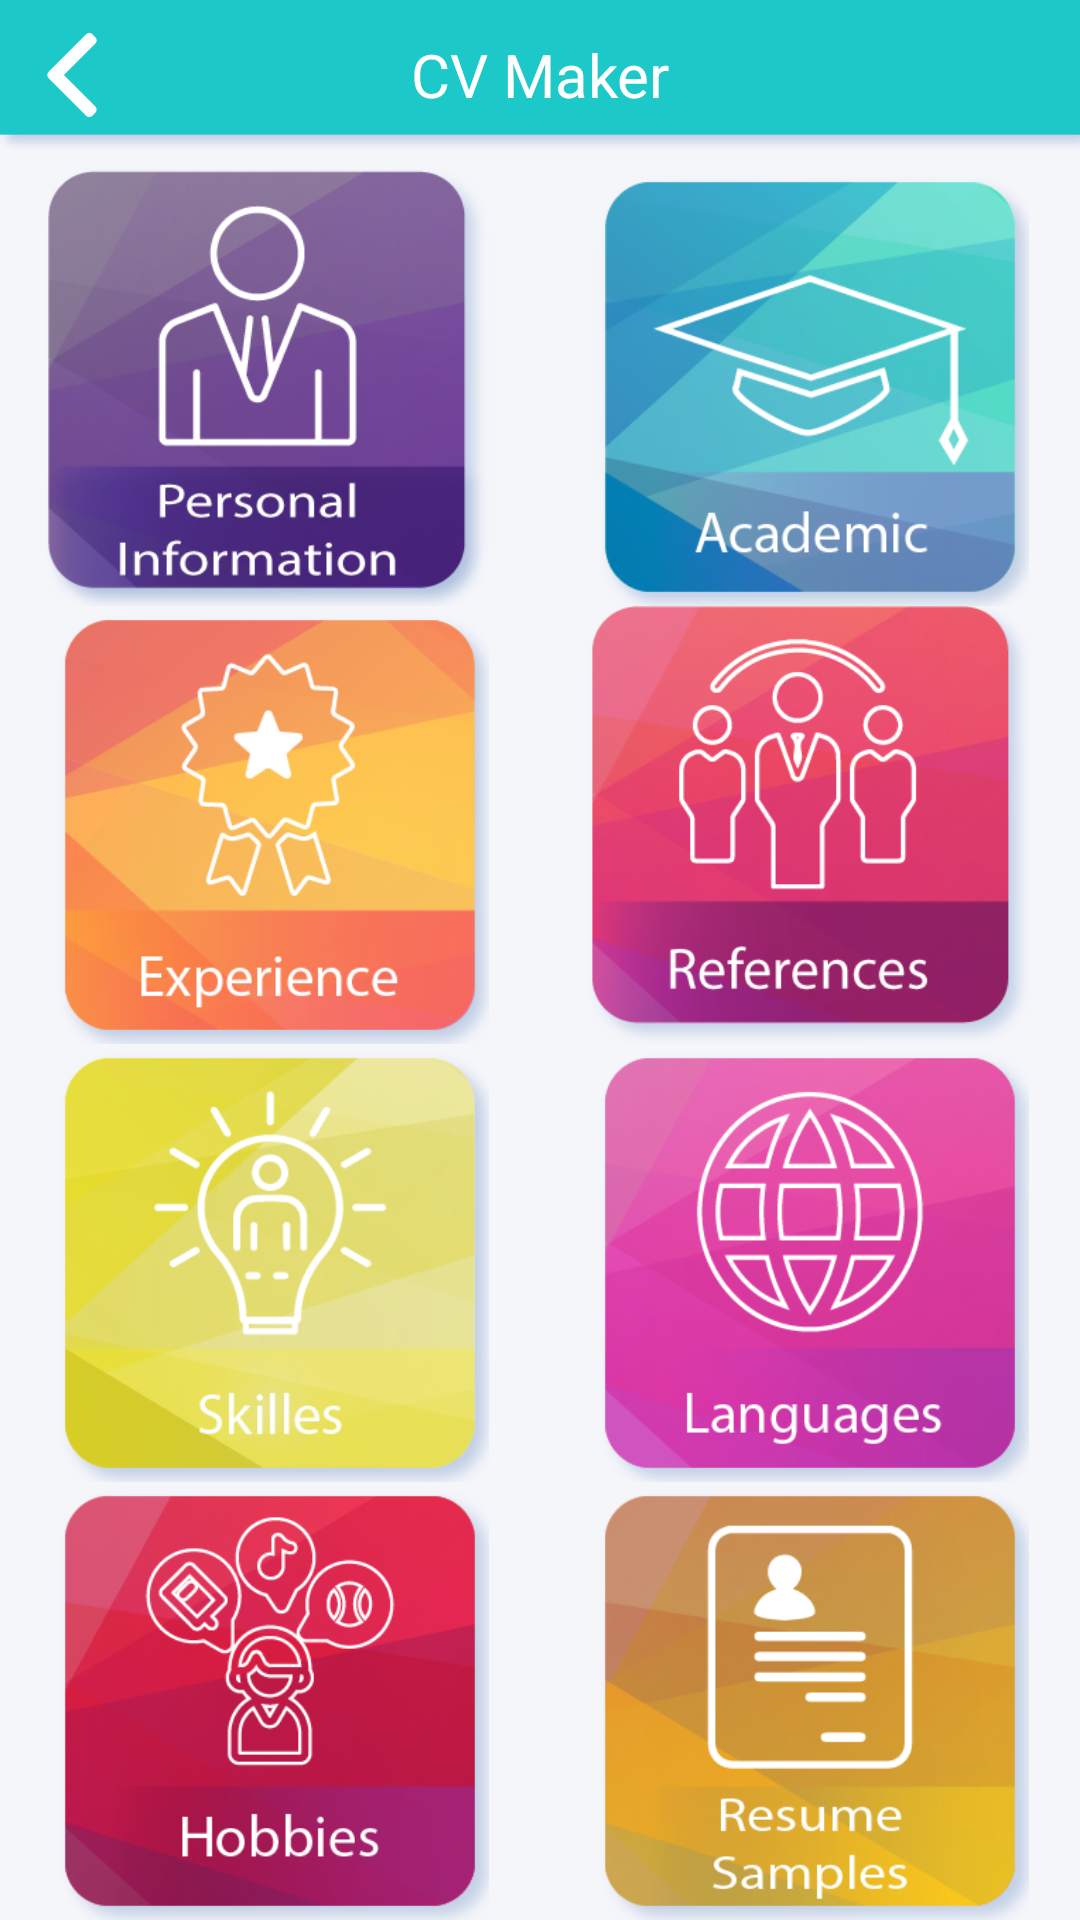

Point at icon controls on the screen. Image size 1080×1920, points as point (x, y).
back: point (72, 75)
